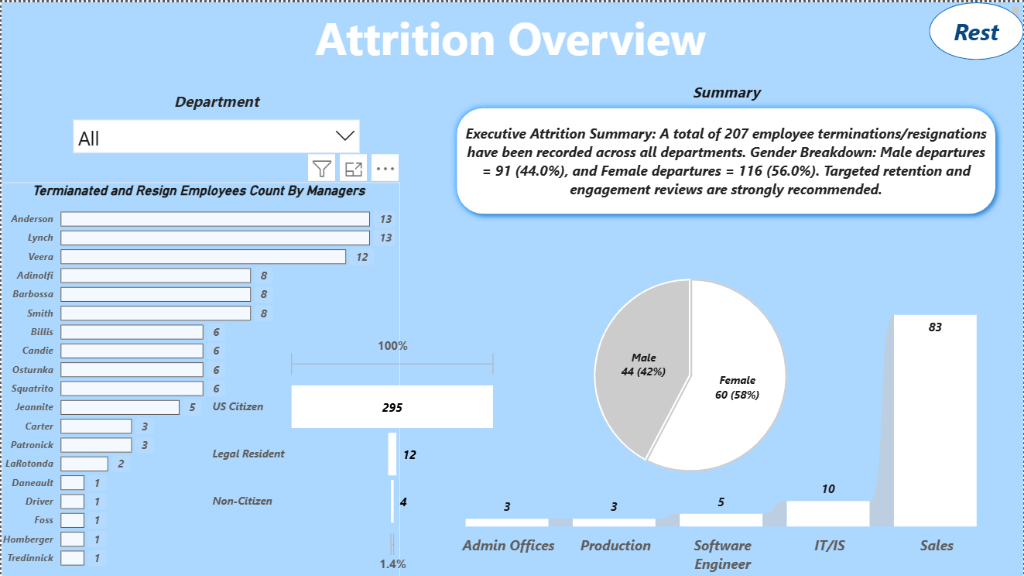

Layout of this report page (visuals, bound fields, positions):
{"tool":"powerbi","page":{"name":"Page 1","canvas":[1280,720],"ordinal":0},"visuals":[{"type":"textbox","box":[3.8,0,1275.6,71.8],"z":0},{"type":"columnChart","title":"Resign And Terminated Employees Counts","fields":{"Category":["dim_department.Department"],"Series":["Fact_table.w_term_d"],"Y":["CountNonNull(dim_employees.EmpID)"]},"box":[485.7,383.6,793.7,336.4],"z":0,"group":"g1"},{"type":"slicer","title":"Department","fields":{"Values":["dim_department.Department"]},"box":[79.4,111.2,378.4,105.6],"z":1000,"group":"g1"},{"type":"barChart","title":"Termianated and Resign Employees Count By Managers","fields":{"Category":["dim_employees.Manager_Name"],"Y":["Fact_table.in_active_employees"]},"box":[0,224.9,498.9,495.1],"z":1000},{"type":"group","id":"g1","title":"Group 1","box":[79.4,99.2,1200,620.8],"z":2000},{"type":"pieChart","fields":{"Category":["dim_employees.Sex"],"Y":["CountNonNull(Fact_table.w_term_d)"]},"box":[632.4,301.7,461.1,332.6],"z":2000,"group":"g1"},{"type":"shape","box":[1162.3,0,118.6,72.2],"z":3000},{"type":"funnel","fields":{"Category":["dim_employees.CitizenDesc"],"Y":["CountNonNull(dim_employees.EmpID)"]},"box":[257.8,410.8,381.7,306.1],"z":3000,"group":"g1"},{"type":"shape","title":"Summary","box":[561.4,99.2,693.1,175.3],"z":4000,"group":"g1"}]}

Visuals, with their boxes in screenshot pixels (x1, y1, x2, y2), scaled from the page's 1280x720 canvas onto the 1024x576 screenshot:
textbox: {"x1": 3, "y1": 0, "x2": 1023, "y2": 57}
"Resign And Terminated Employees Counts" columnChart: {"x1": 389, "y1": 307, "x2": 1023, "y2": 575}
"Department" slicer: {"x1": 64, "y1": 89, "x2": 366, "y2": 173}
"Termianated and Resign Employees Count By Managers" barChart: {"x1": 0, "y1": 180, "x2": 399, "y2": 575}
"Group 1" group: {"x1": 64, "y1": 79, "x2": 1023, "y2": 575}
pieChart - dim_employees.Sex x CountNonNull(Fact_table.w_term_d): {"x1": 506, "y1": 241, "x2": 875, "y2": 507}
shape: {"x1": 930, "y1": 0, "x2": 1023, "y2": 58}
funnel - dim_employees.CitizenDesc x CountNonNull(dim_employees.EmpID): {"x1": 206, "y1": 329, "x2": 512, "y2": 574}
"Summary" shape: {"x1": 449, "y1": 79, "x2": 1004, "y2": 220}
